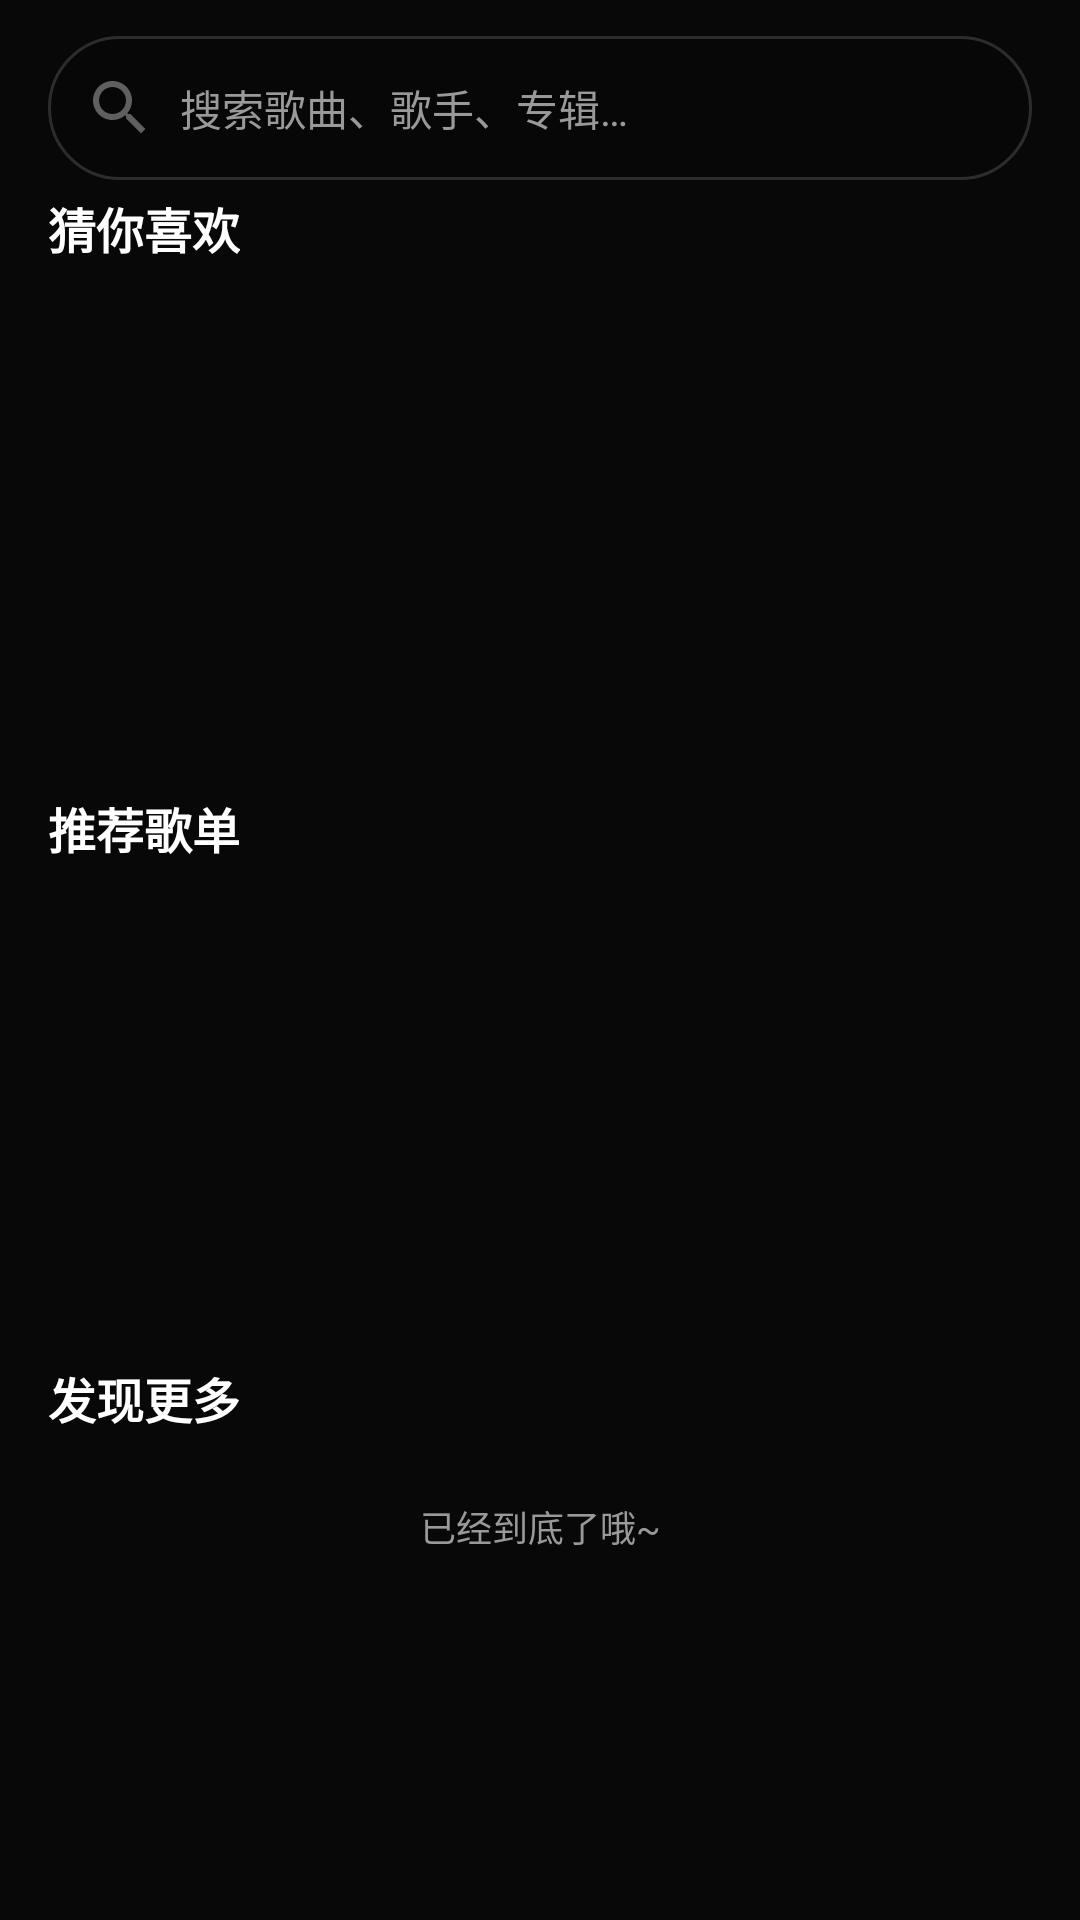

Named icons in this screenshot (1080×1920) and their bounding boxes, bbox=[x1, y1, x2, y2]:
Search: bbox=[93, 81, 145, 133]
